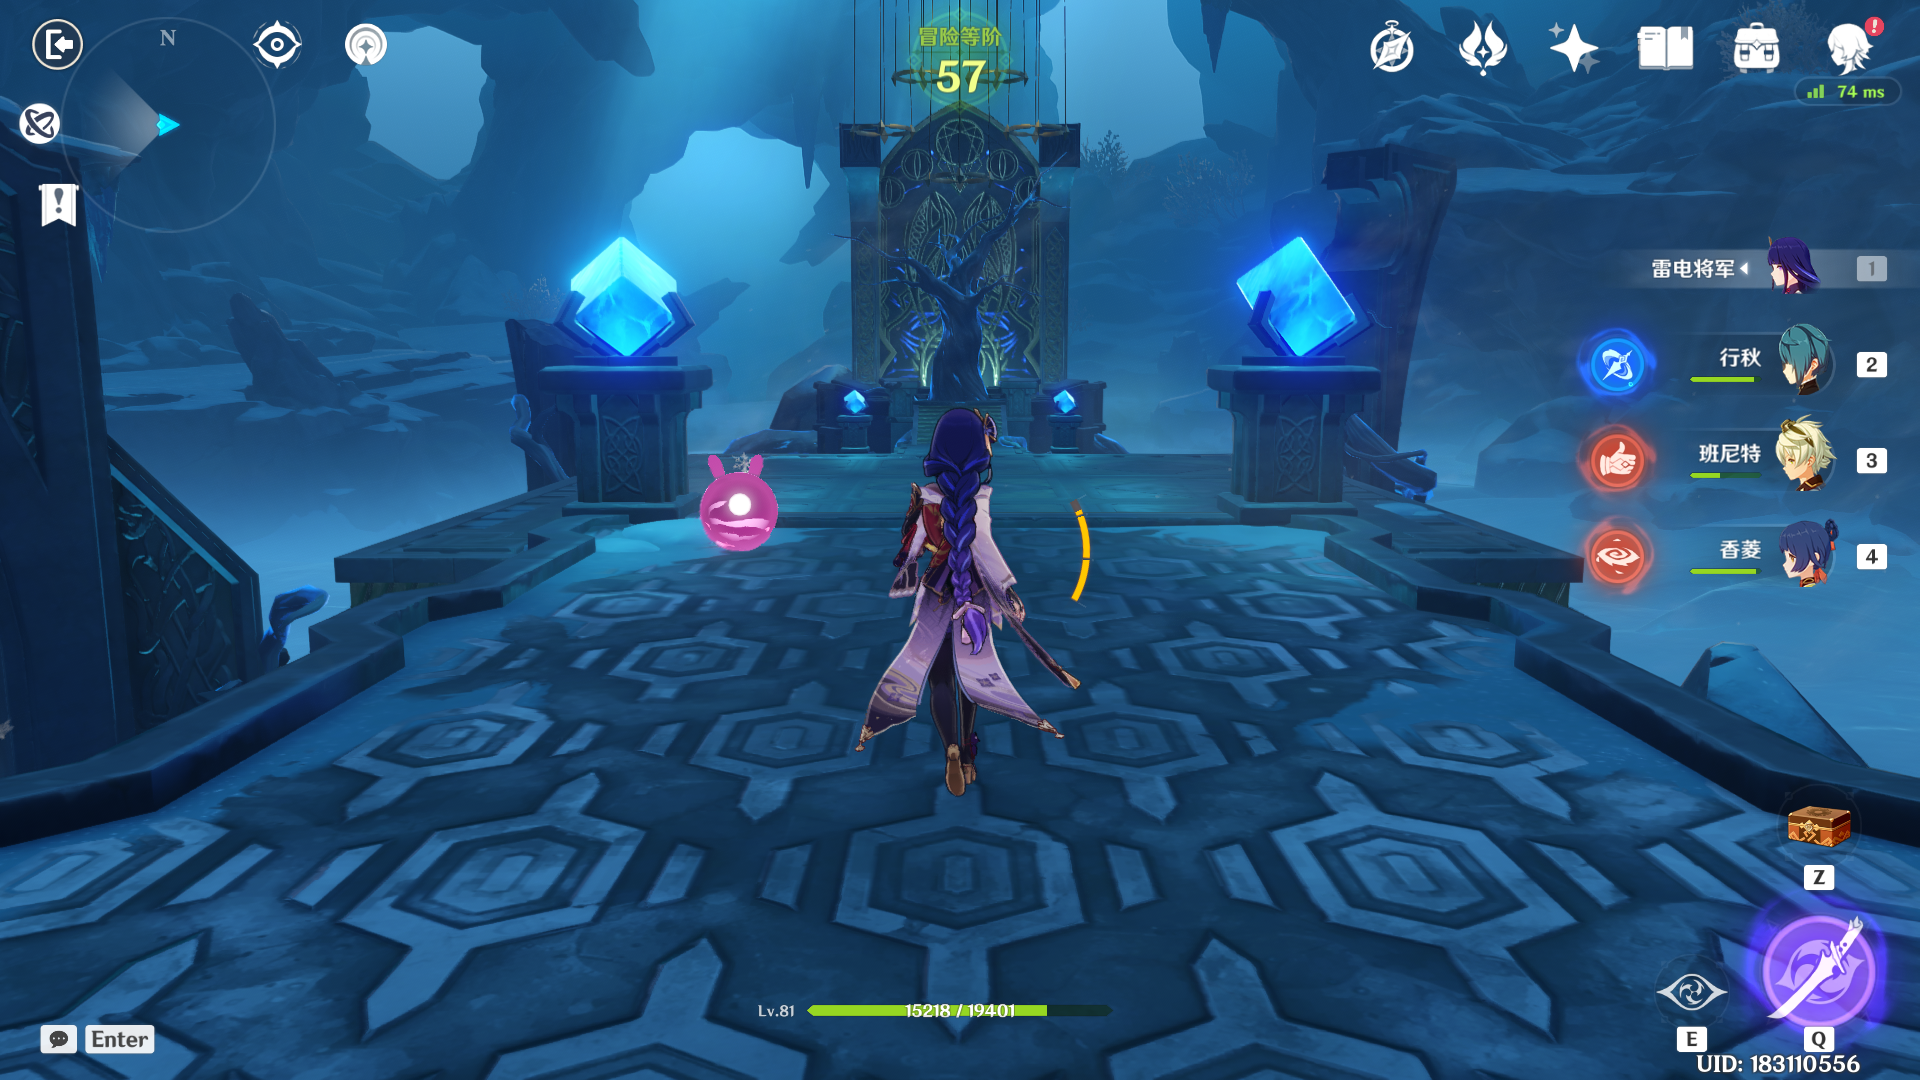character: (822, 359, 1112, 885)
